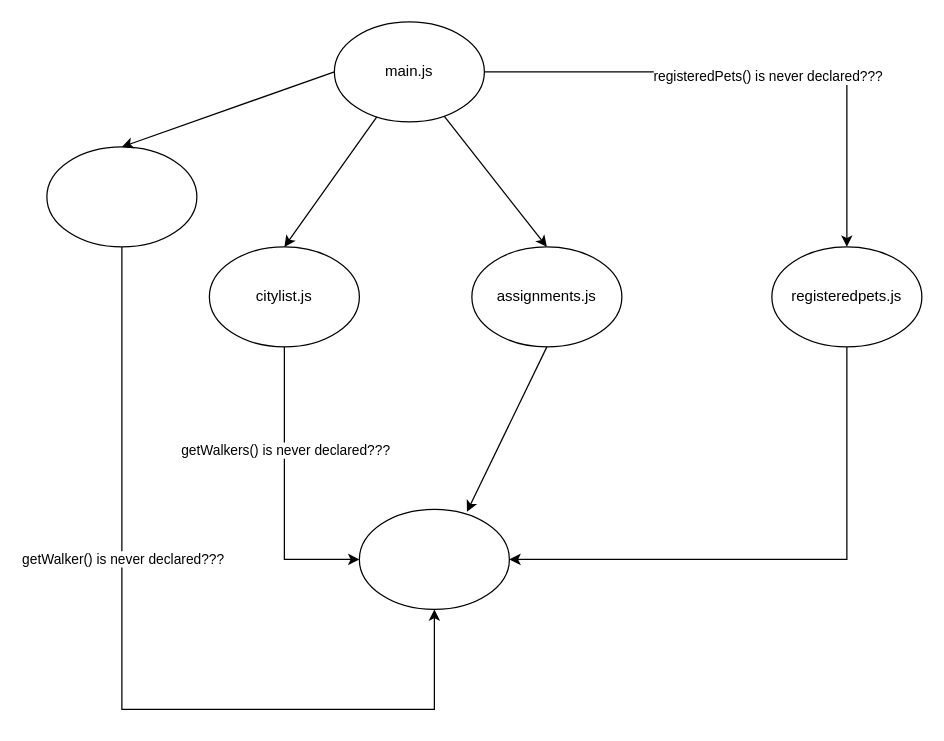
This 944x741 diagram has some shape labels left out. The centre of each missing label's shape, as x and y in pixels:
"database.js" goes at point (433, 558).
"walkers.js" goes at point (121, 196).
